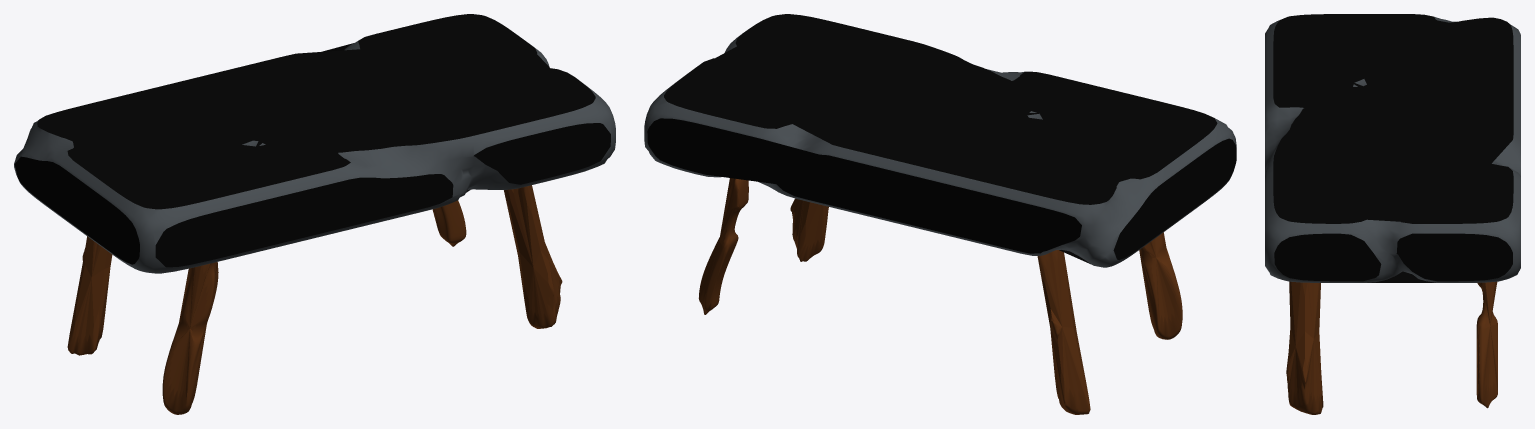
File: Packing Table.fbx
3 renders of one model, left to right at view 1: azimuth 30°, elevation 25°; view 2: azimuth 150°, elevation 25°; view 3: azimuth 270°, elevation 25°, orthographic. The views are drawn at different scales.
Parts seen in each view (by area): view 1: Packing Table; view 2: Packing Table; view 3: Packing Table.
Boxes of the visible parts, <box> form: Packing Table: <box>14,14,615,414</box>; Packing Table: <box>644,14,1236,414</box>; Packing Table: <box>1265,14,1520,414</box>.
Size of the model in its own units: 183 by 84.3 by 91.44.
